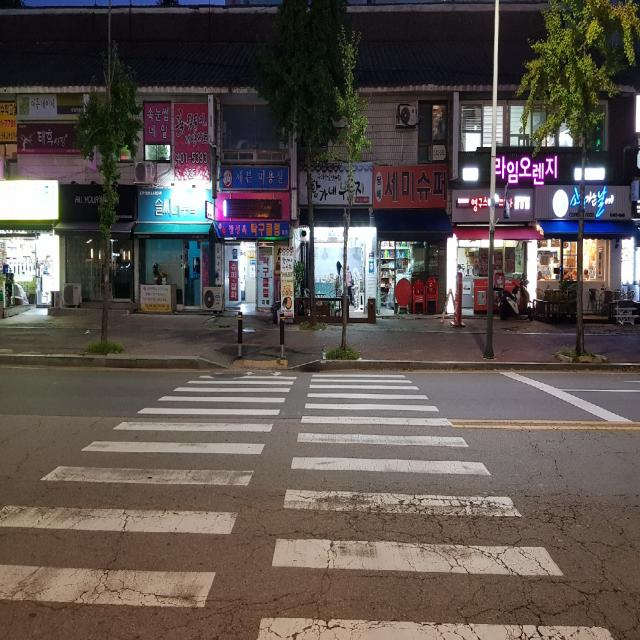횡단보도: (0, 359, 617, 640)
